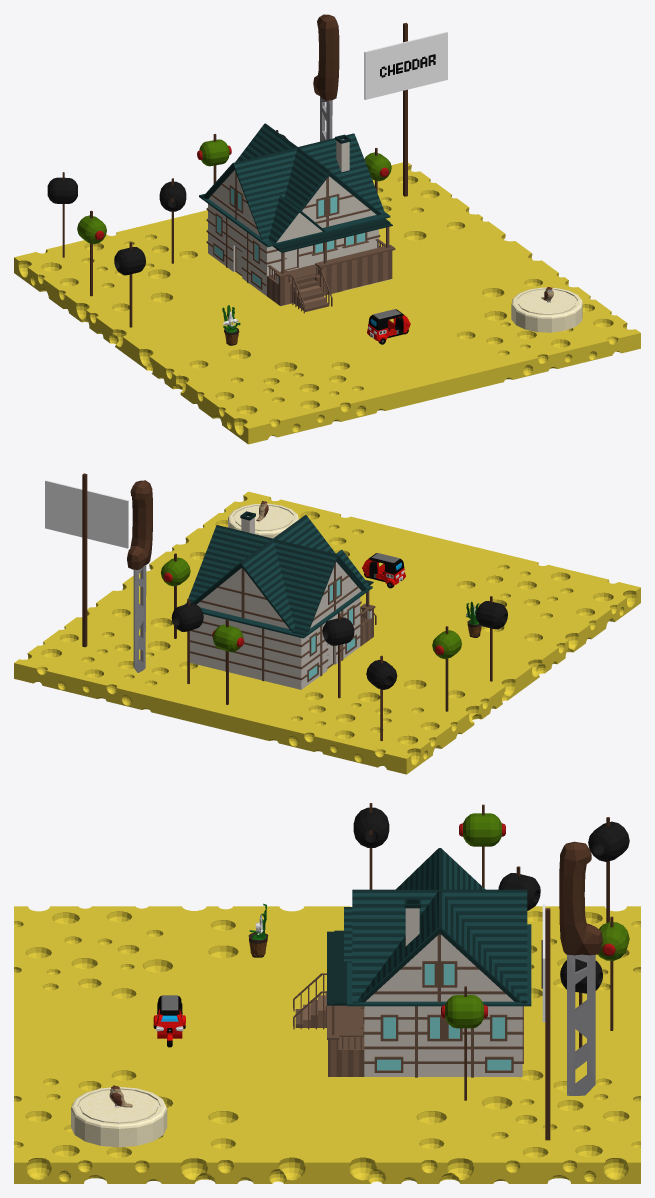
3 views of the same model, one above another, from view 1: azimuth 30°, elevation 25°; view 2: azimuth 150°, elevation 25°; view 3: azimuth 270°, elevation 25° (orthographic). The views are drawn at different scales.
Visible parts, largest first — view 1: Cube.022, Cube.793, Cube.023, Cylinder.016, Cube.024, VEHICLES_TUC_TUC, Sphere.017, Sphere.016, Sphere.020, Sphere.018, Sphere.022, Sphere.019; view 2: Cube.022, Cube.793, Cube.023, Cube.024, Cylinder.016, VEHICLES_TUC_TUC, Sphere.017, Sphere.020, Sphere.021, Sphere.016, Sphere.018, Sphere.022 (+1 smaller); view 3: Cube.022, Cube.793, Cube.024, Cylinder.016, Cube.023, Sphere.019, Sphere.016, Sphere.018, Sphere.017, VEHICLES_TUC_TUC, Sphere.022, Sphere.020 (+2 smaller).
Boxes of the visible parts, x1,y1,x2,y2 form: Cube.022: (14, 162, 640, 444); Cube.793: (199, 123, 395, 313); Cube.023: (364, 23, 447, 196); Cylinder.016: (511, 287, 582, 332); Cube.024: (313, 14, 339, 141); VEHICLES_TUC_TUC: (367, 309, 410, 344); Sphere.017: (114, 242, 145, 327); Sphere.016: (47, 172, 77, 257); Sphere.020: (159, 178, 186, 263); Sphere.018: (77, 210, 106, 296); Sphere.022: (197, 134, 231, 183); Sphere.019: (364, 148, 391, 192); Cube.022: (14, 491, 640, 774); Cube.793: (184, 511, 376, 689); Cube.023: (45, 473, 128, 647); Cube.024: (127, 480, 152, 672); Cylinder.016: (228, 503, 298, 538); VEHICLES_TUC_TUC: (362, 553, 405, 588); Sphere.017: (476, 596, 507, 681); Sphere.020: (322, 612, 354, 698); Sphere.021: (171, 598, 203, 683); Sphere.016: (366, 655, 397, 741); Sphere.018: (432, 626, 461, 711); Sphere.022: (212, 619, 244, 704); Cube.022: (14, 906, 640, 1183); Cube.793: (293, 848, 531, 1077); Cube.024: (559, 841, 602, 1095); Cylinder.016: (71, 1086, 167, 1147); Cube.023: (541, 904, 550, 1140); Sphere.019: (441, 986, 487, 1100); Sphere.016: (588, 817, 629, 922); Sphere.018: (459, 804, 505, 888); Sphere.017: (353, 803, 389, 889); VEHICLES_TUC_TUC: (153, 995, 185, 1047); Sphere.022: (598, 916, 629, 1030); Sphere.020: (498, 866, 540, 910).
Bounding box in the file's own units: 3917 × 2007 × 4000.
Materials: 35 (4 with a texture image).
